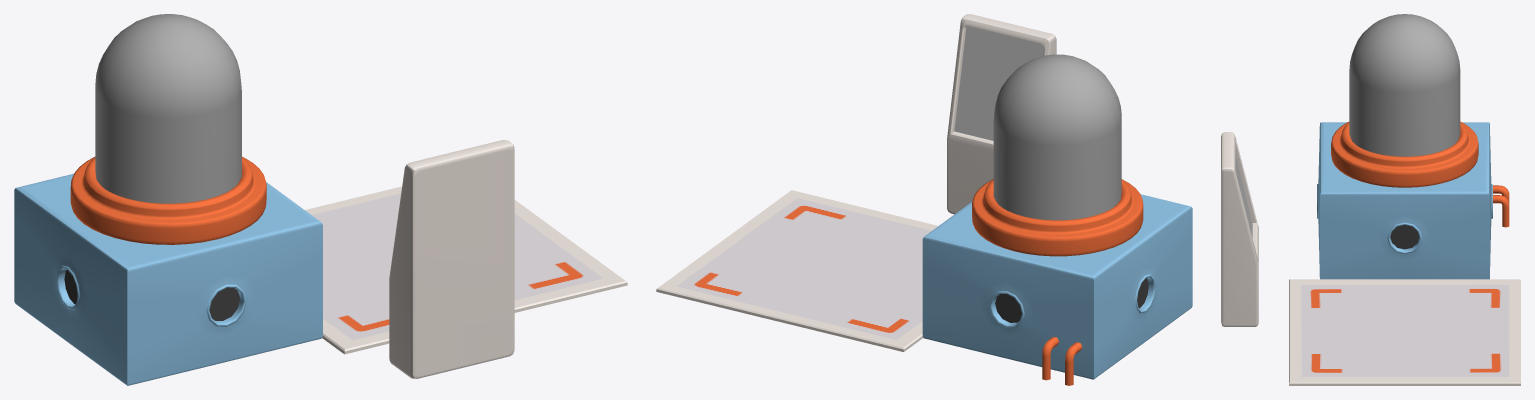
The model's file is Robot Shop.fbx.
3 renders of one model, left to right at view 1: azimuth 30°, elevation 25°; view 2: azimuth 150°, elevation 25°; view 3: azimuth 270°, elevation 25°, orthographic. The views are drawn at different scales.
Parts seen in each view (by area): view 1: Block, Body, Chember, Tile; view 2: Block, Tile, Chember, Screen, Body; view 3: Tile, Block, Chember, Body, Screen.
Part boxes in pixels (left/top/right/bottom): Block: left=14, top=156, right=322, bottom=385; Body: left=389, top=140, right=514, bottom=378; Chember: left=95, top=14, right=241, bottom=203; Tile: left=305, top=186, right=627, bottom=354; Block: left=922, top=179, right=1192, bottom=385; Tile: left=656, top=190, right=938, bottom=351; Chember: left=993, top=54, right=1121, bottom=220; Screen: left=954, top=26, right=1044, bottom=140; Body: left=947, top=14, right=1056, bottom=214; Tile: left=1289, top=279, right=1520, bottom=385; Block: left=1317, top=121, right=1509, bottom=279; Chember: left=1349, top=14, right=1460, bottom=156; Body: left=1221, top=132, right=1258, bottom=326; Screen: left=1235, top=155, right=1252, bottom=237.
Bounding box in the file's own units: 16.61 × 9.9 × 11.86.
